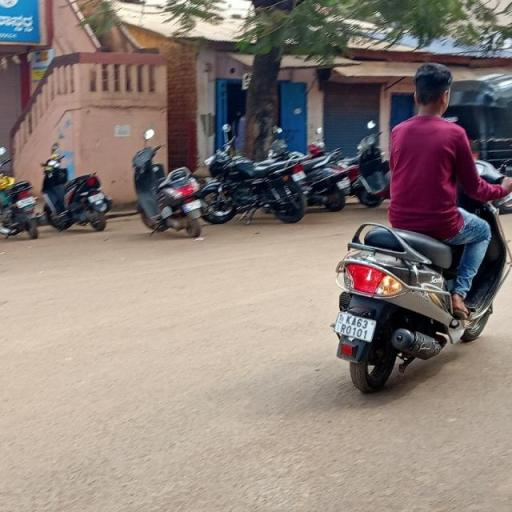bike: (324, 55, 512, 401)
numberplate: (330, 307, 384, 352)
withouthelmet: (414, 63, 453, 117)
